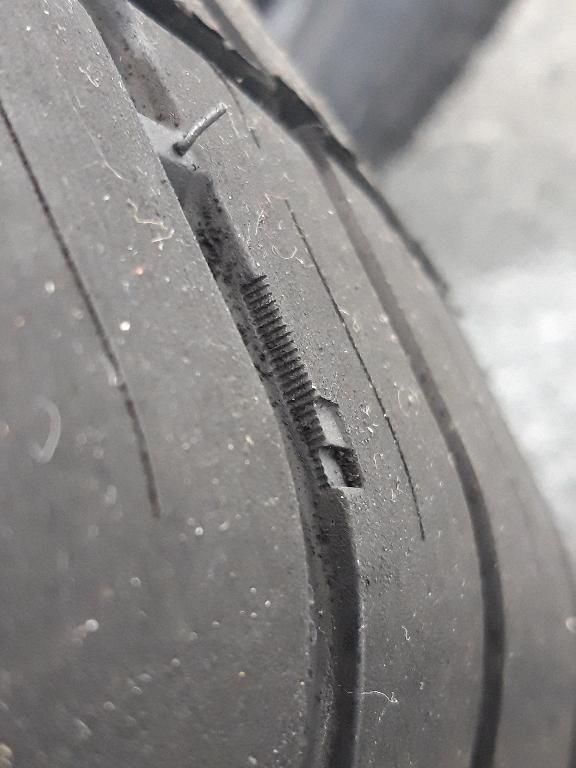temoin:25: (274, 387, 374, 502)
